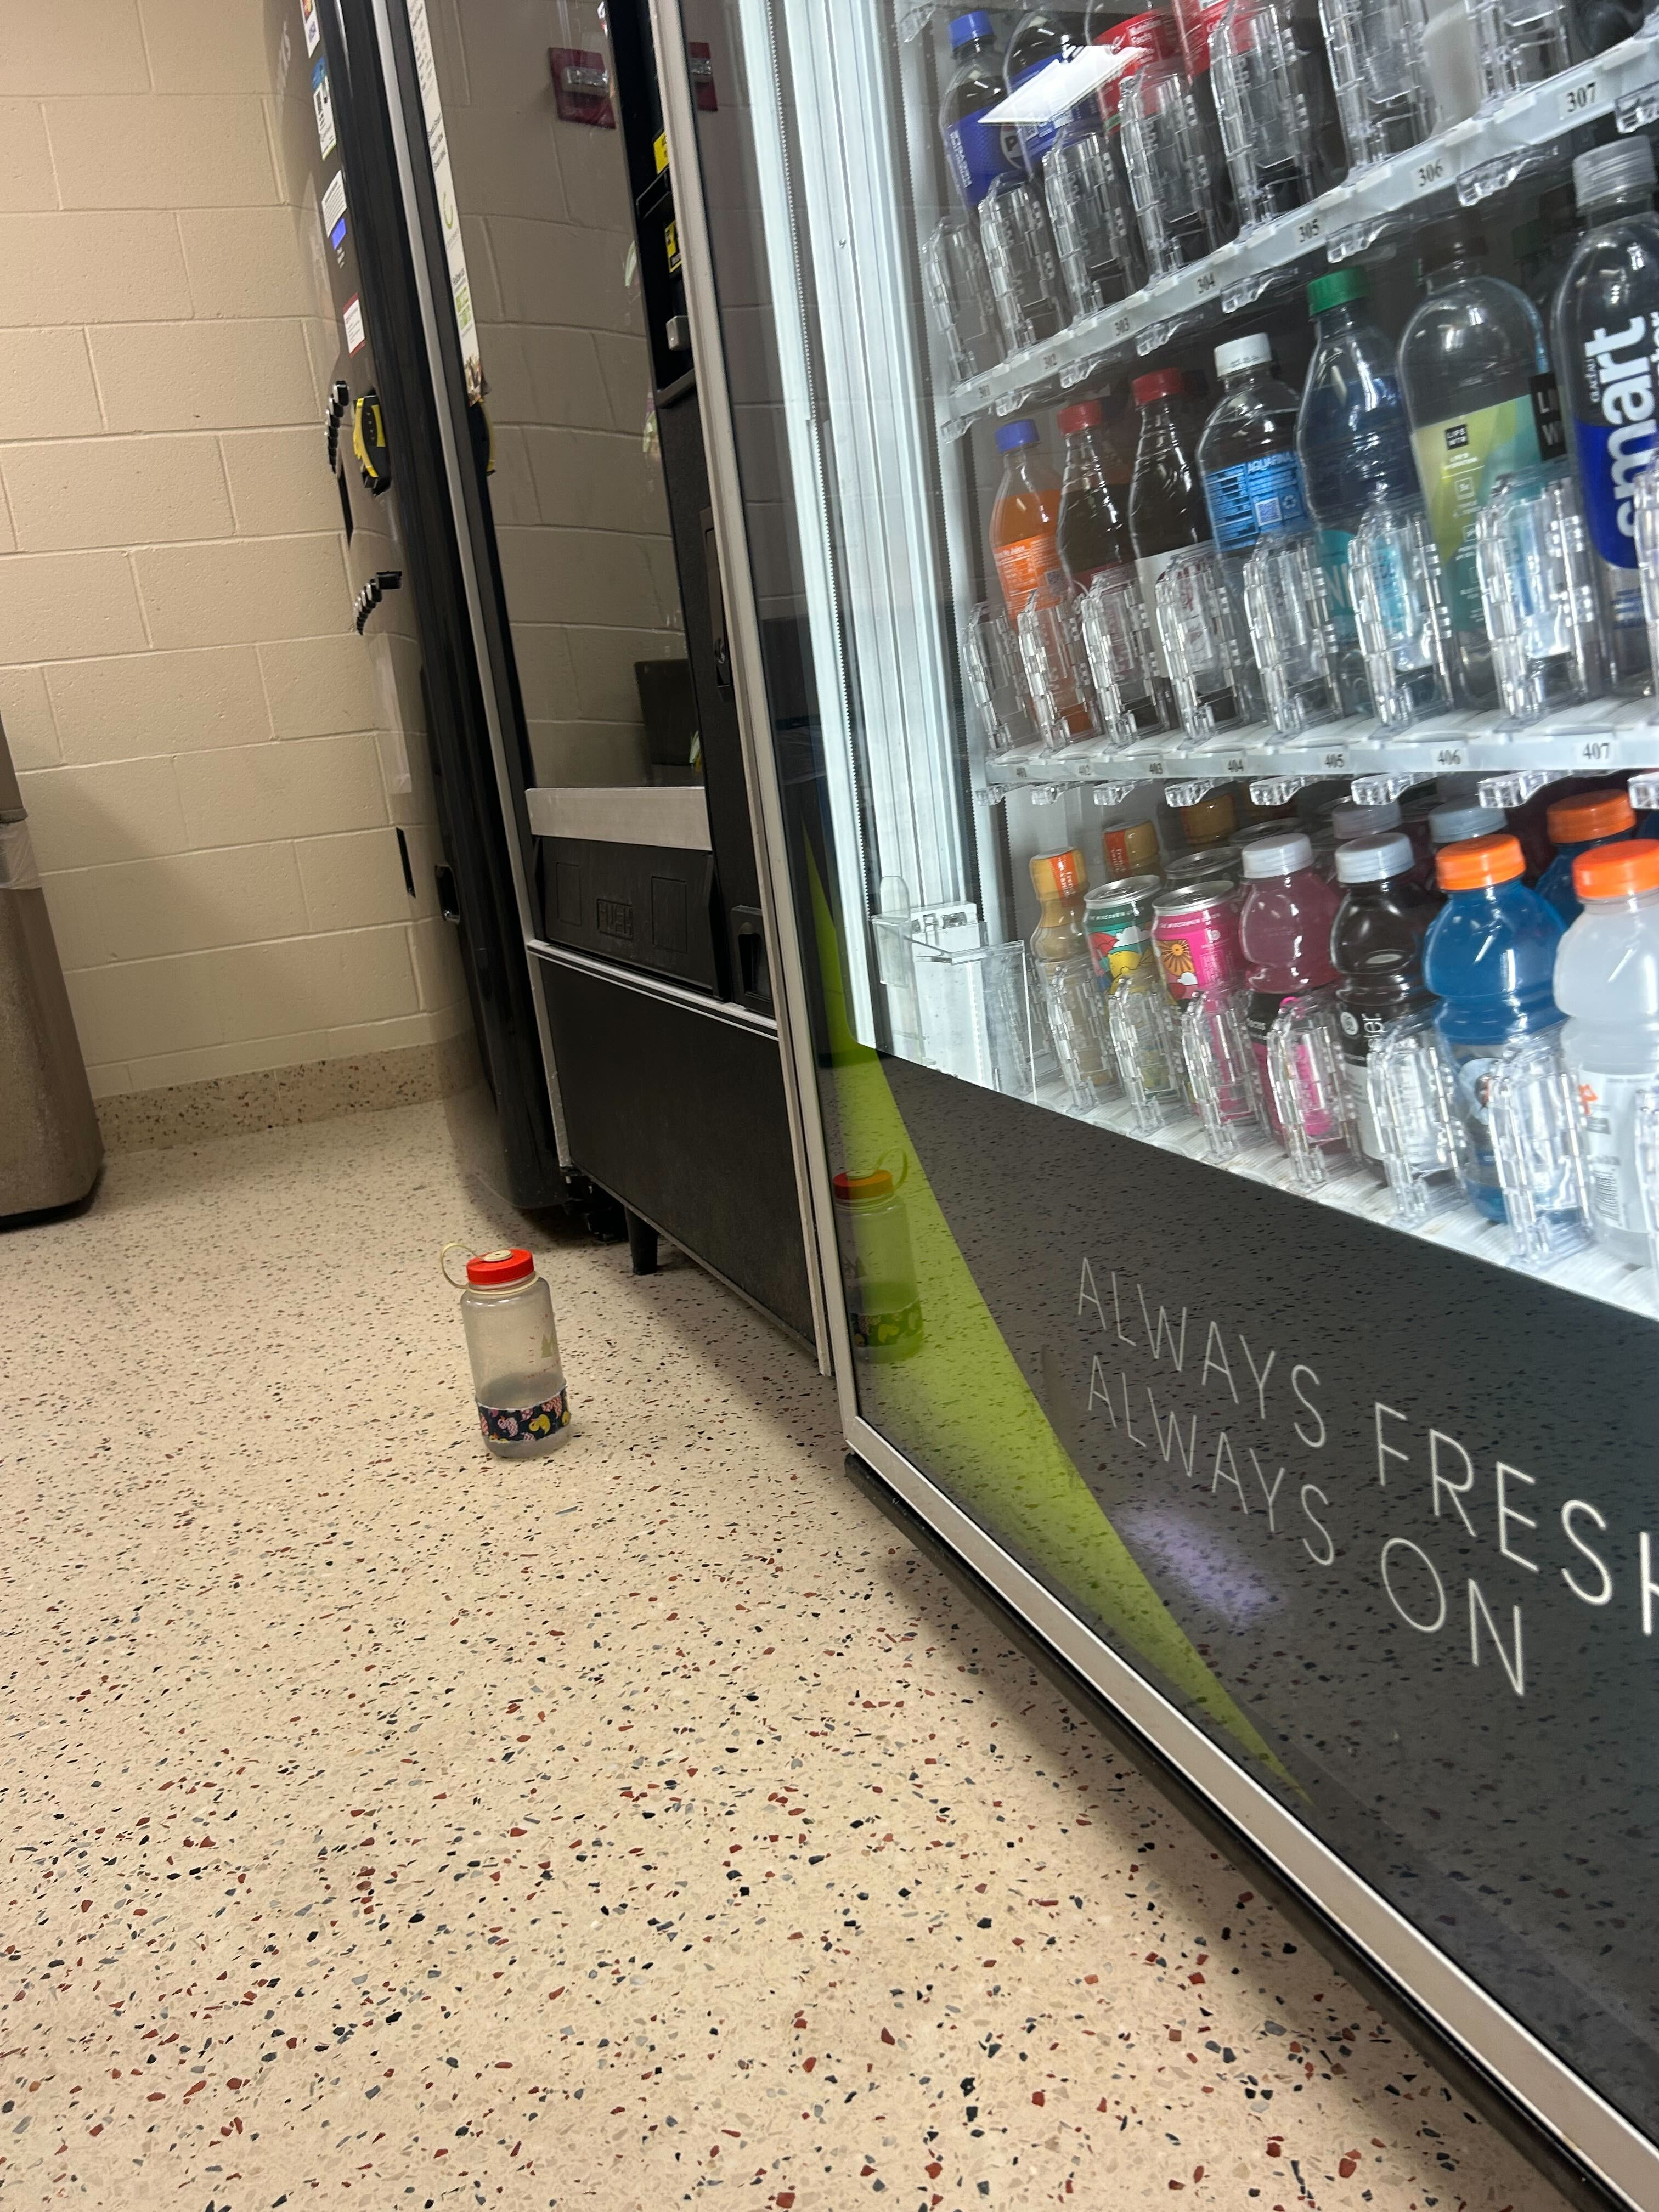bottle: (432, 1231, 575, 1467)
